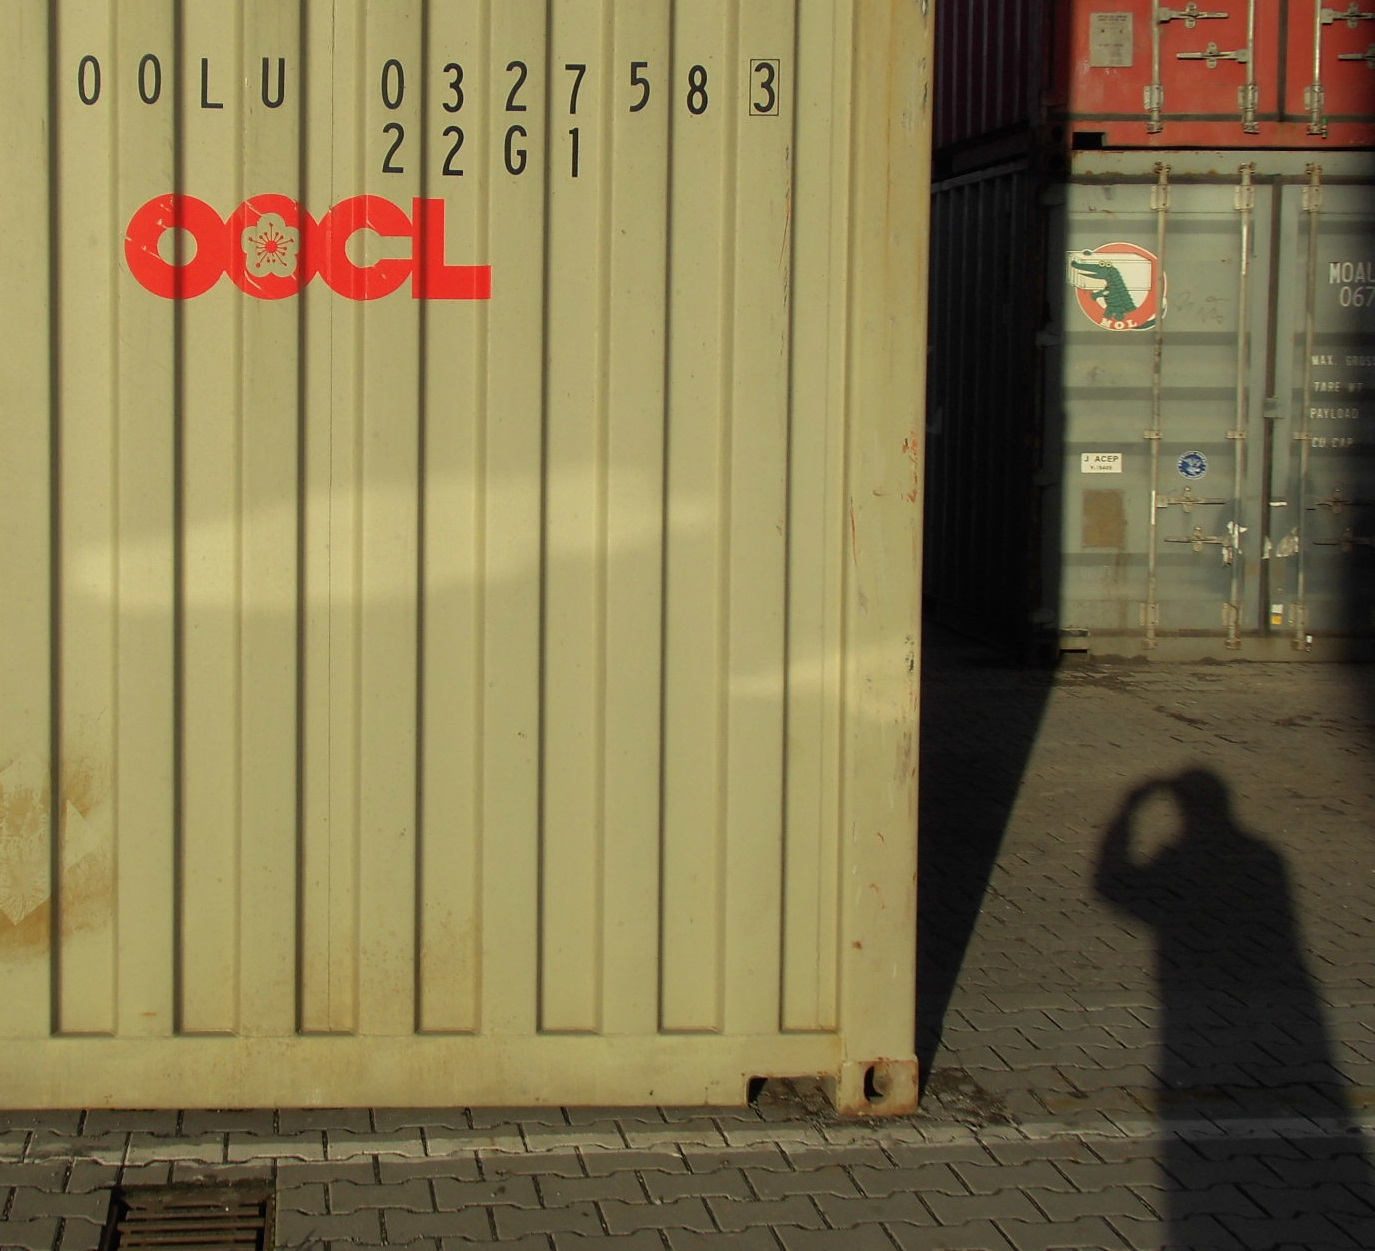container_door: (1026, 153, 1373, 653), (1061, 1, 1375, 161)
container_no_door: (1, 1, 929, 1129)
